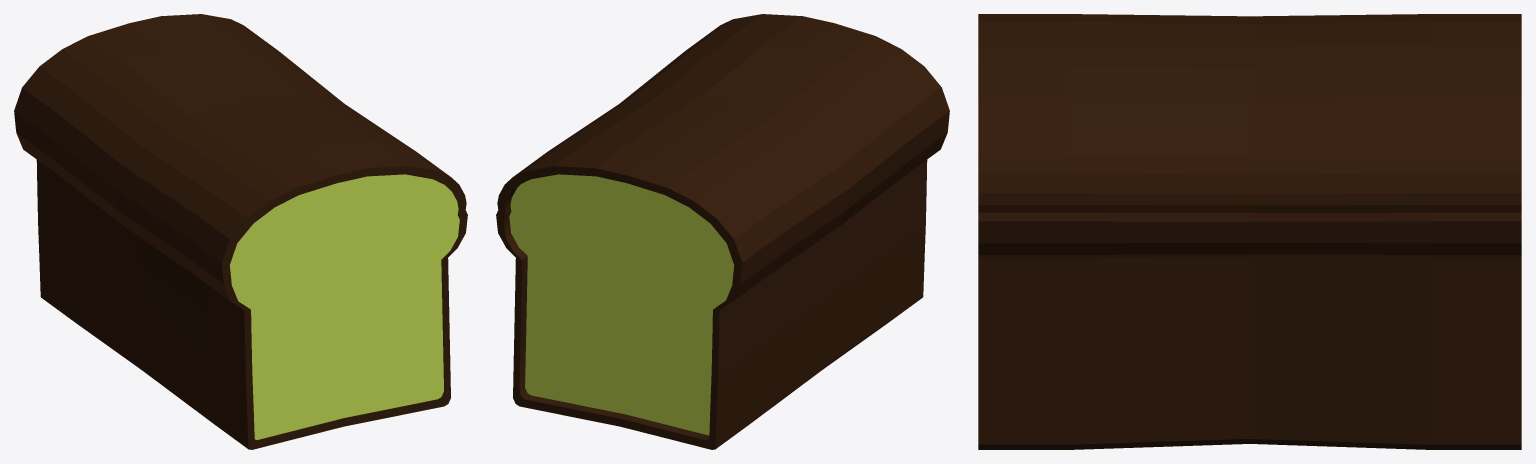
The model's file is Bread.fbx.
The picture shows the model from 3 angles, left to right: view 1: azimuth 30°, elevation 25°; view 2: azimuth 150°, elevation 25°; view 3: azimuth 270°, elevation 25°; orthographic projection. The views are drawn at different scales.
Parts seen in each view (by area): view 1: Object002, Object001; view 2: Object002, Object001; view 3: Object002.
Boxes of the visible parts, box(x1,y1,x2,y2) form: Object002: box(14, 14, 467, 449); Object001: box(229, 174, 459, 439); Object002: box(496, 14, 949, 449); Object001: box(509, 174, 734, 435); Object002: box(978, 14, 1521, 449).
Bounding box in the file's own units: 0.9474 × 0.9377 × 1.37.
